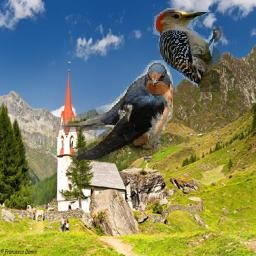Swallow: (53, 60, 173, 160)
Woodpecker: (141, 4, 224, 92)
